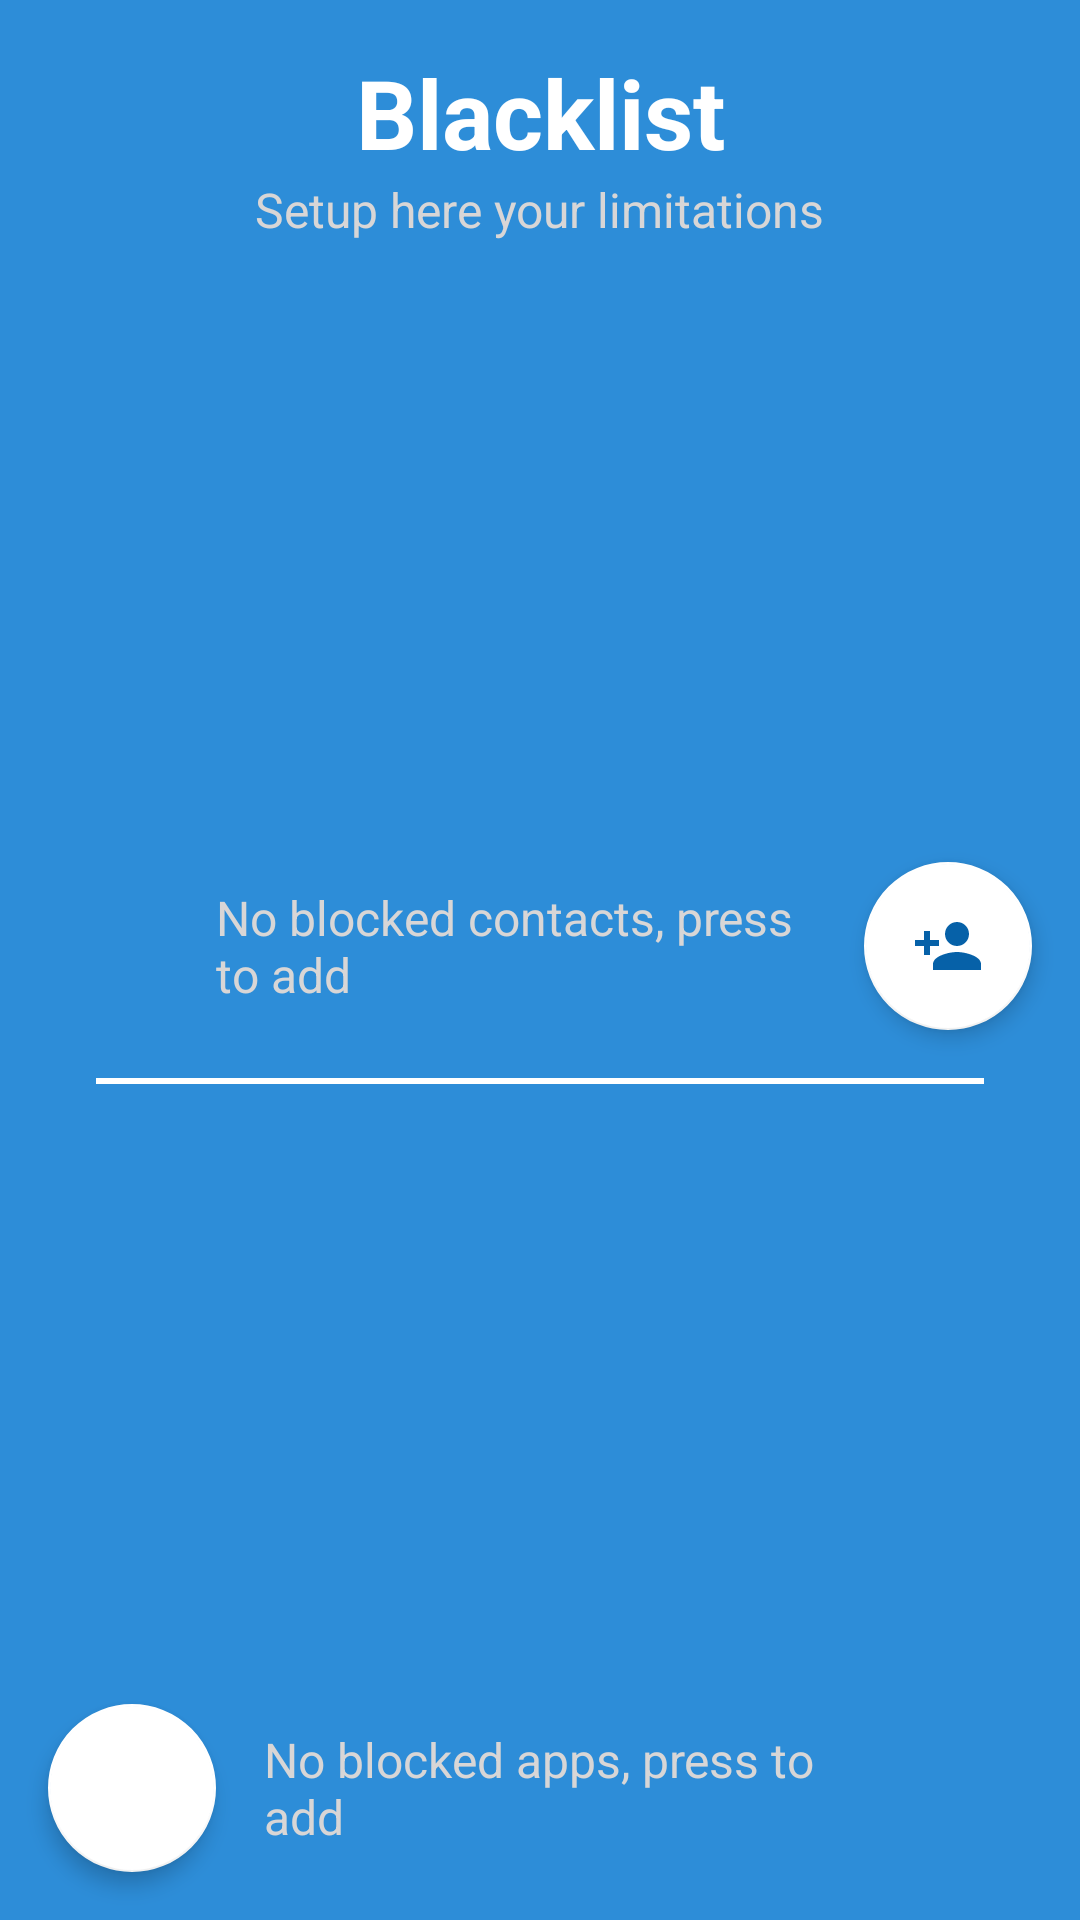

Named icons in this screenshot (1080px×1920px) and their bounding boxes, (x1, y1, x2, y2):
person add: (864, 862, 1032, 1030)
